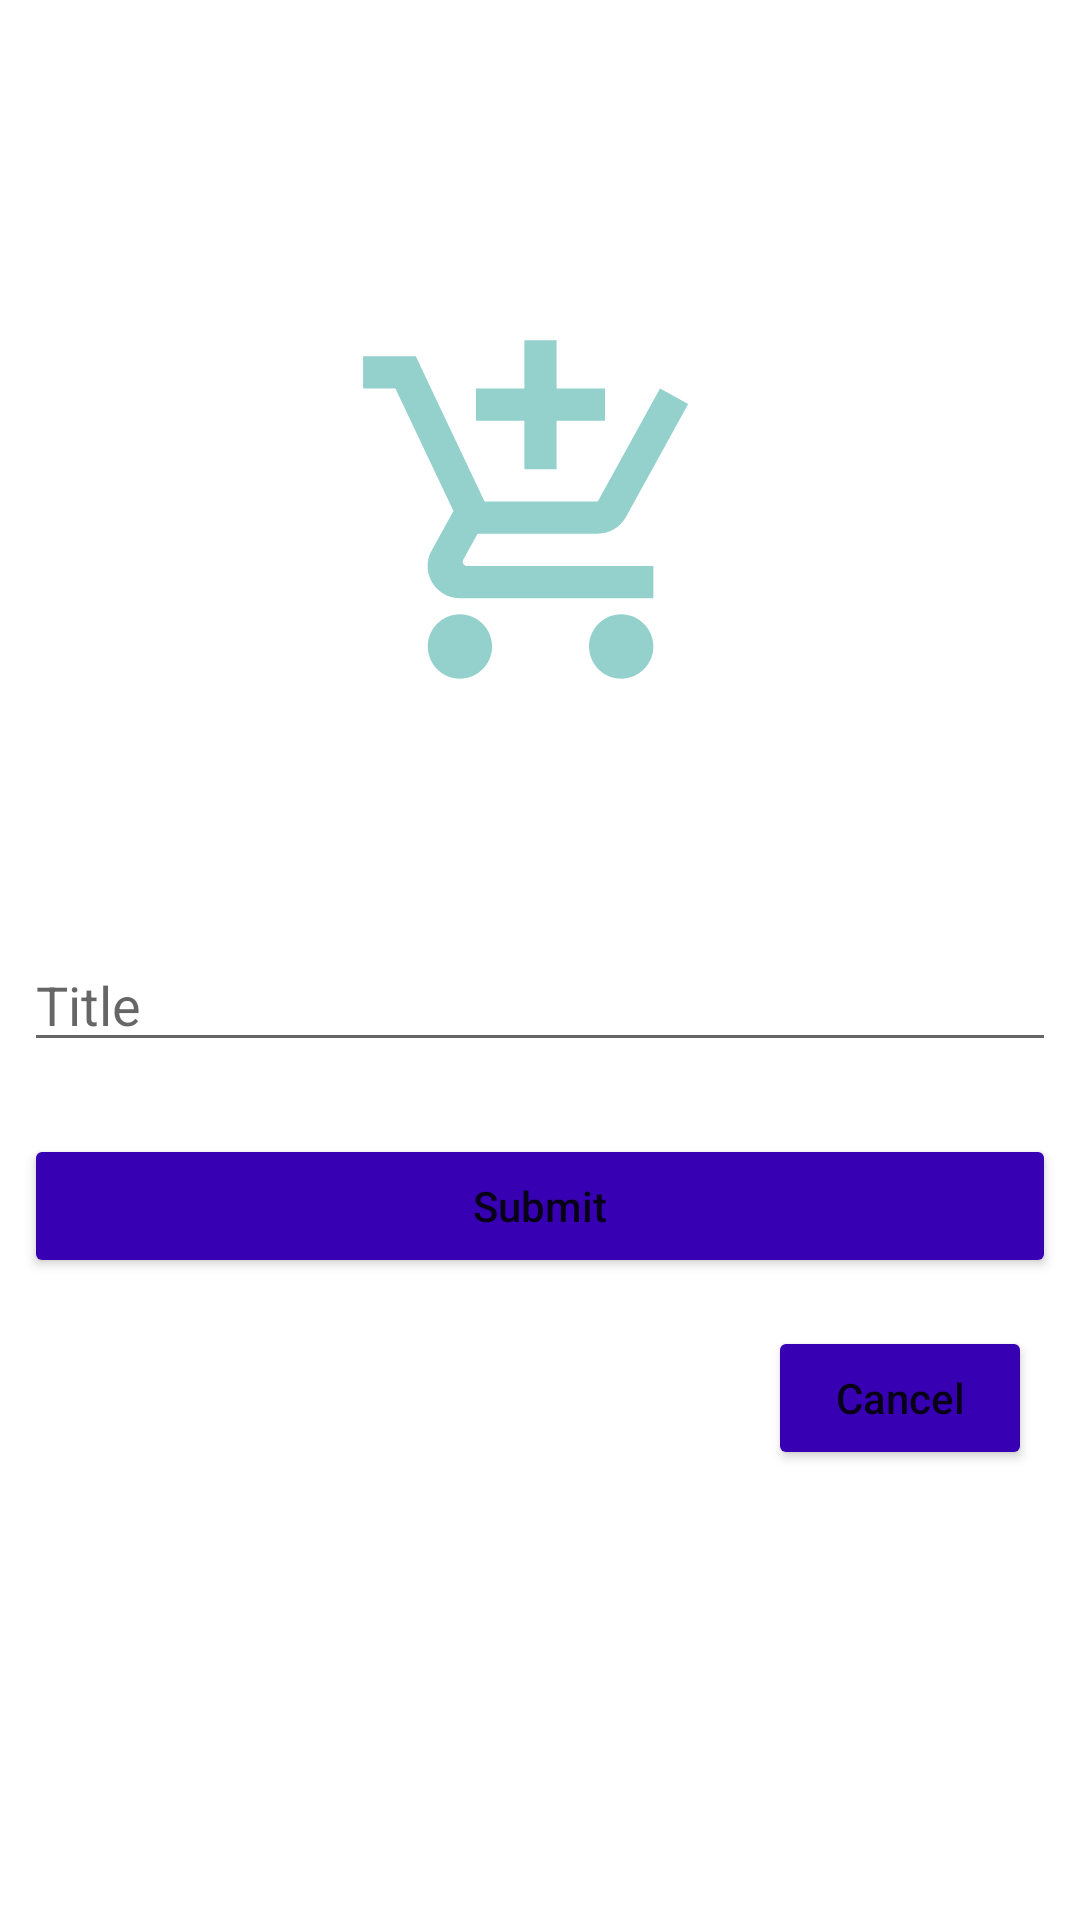

Icon click points for this 1080w x 1920h phone screenshot, format [x,y]:
add shopping cart: [525,509]
